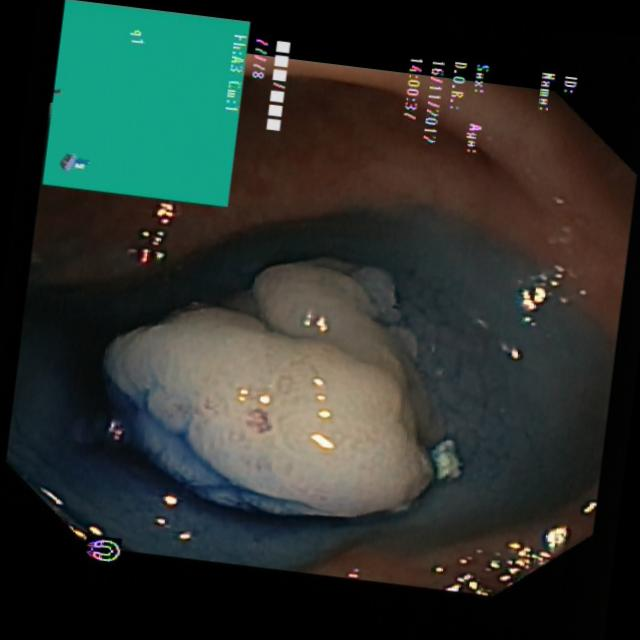dyed-lifted-polyps: (89, 249, 457, 530)
